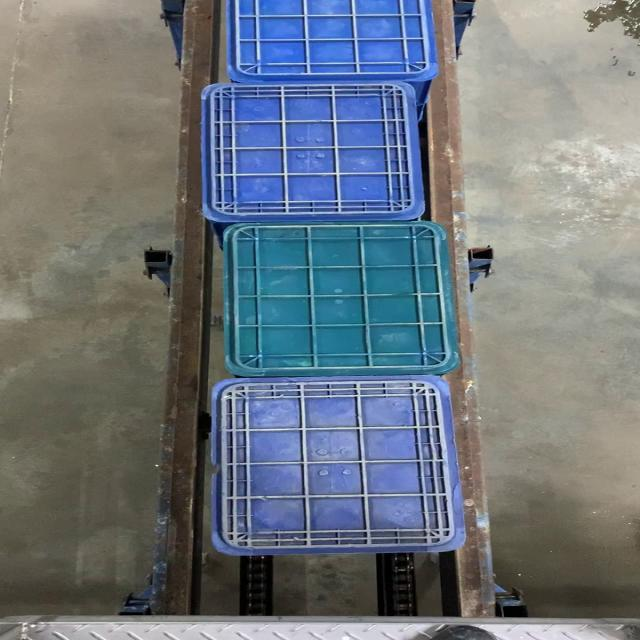Box: (213, 377, 463, 557), (223, 221, 461, 375), (199, 80, 426, 221)
